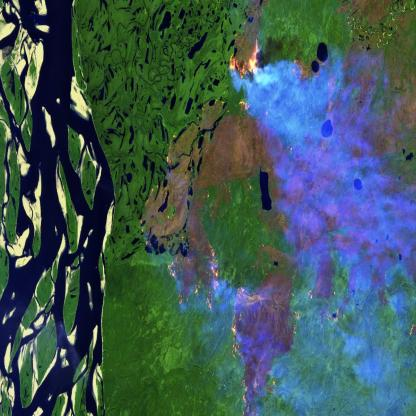fire: (224, 27, 338, 121), (226, 280, 301, 416), (164, 234, 220, 311), (306, 276, 354, 331)
